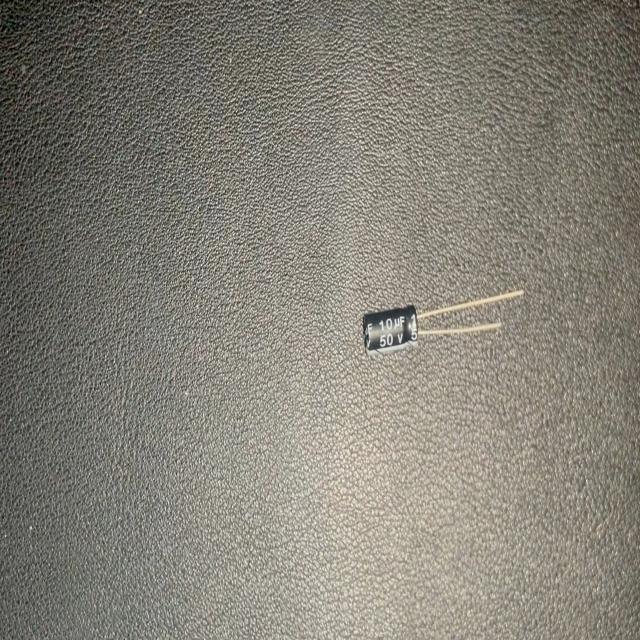capacitor: (363, 288, 525, 356)
